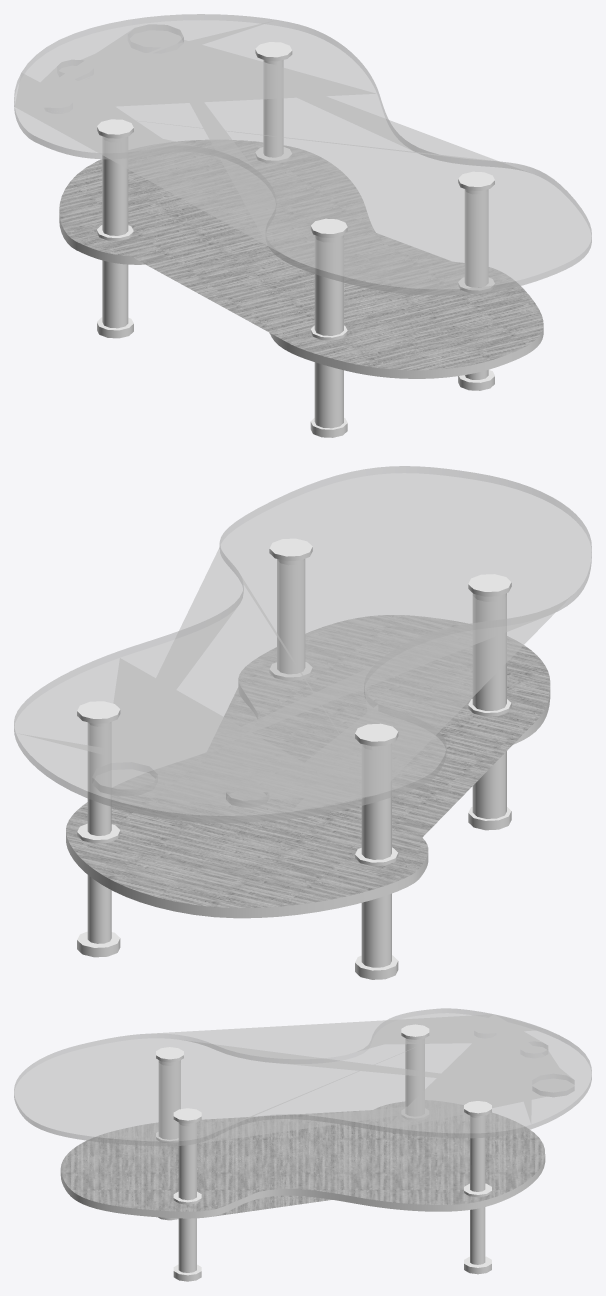
The model's file is Table_01.FBX.
3 views of the same model, one above another, from view 1: azimuth 30°, elevation 25°; view 2: azimuth 150°, elevation 25°; view 3: azimuth 270°, elevation 25° (orthographic). The views are drawn at different scales.
Visible parts, largest first — view 1: Table_01; view 2: Table_01; view 3: Table_01.
Boxes of the visible parts, box(x1,y1,x2,y2) form: Table_01: box(14, 14, 591, 437); Table_01: box(14, 466, 591, 979); Table_01: box(14, 1008, 591, 1281).
Bounding box in the file's own units: 1.55 × 0.8723 × 2.84.
